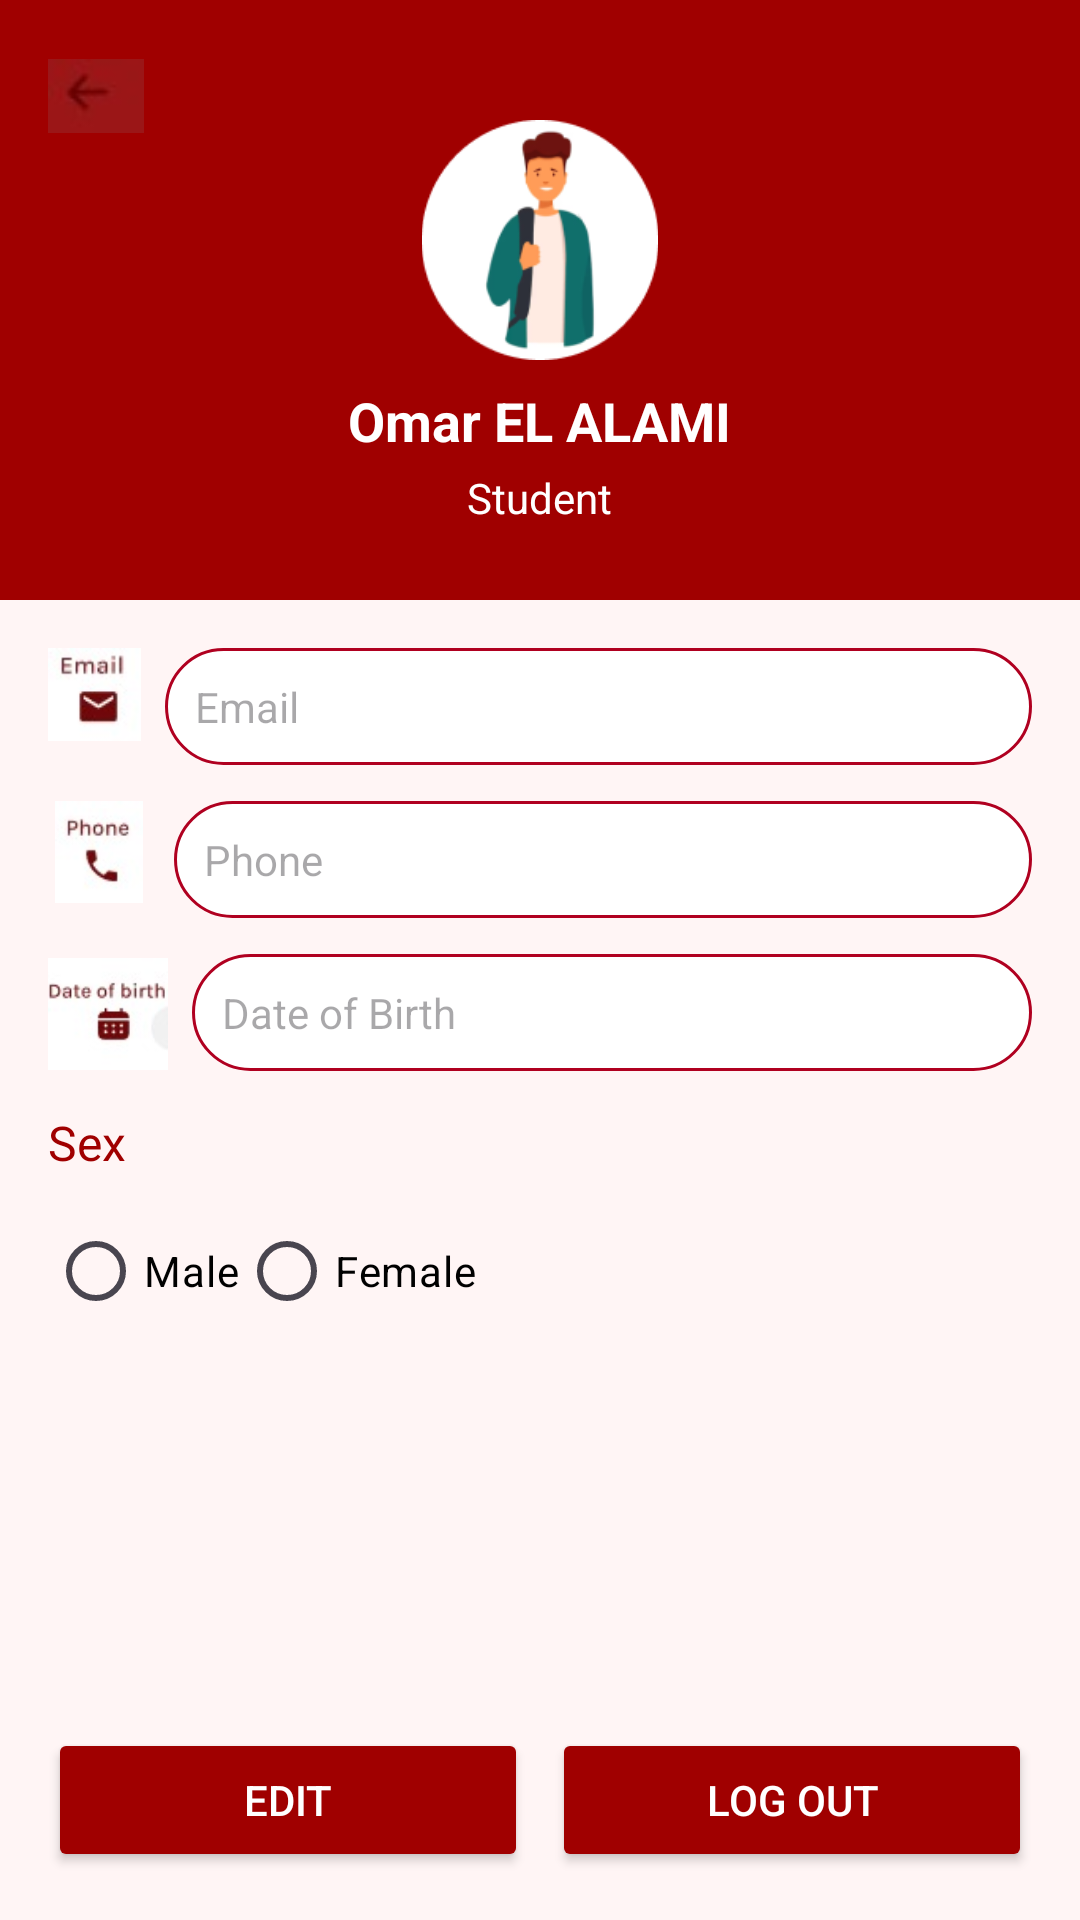

Named icons in this screenshot (1080px×1920px) and their bounding boxes, (x1, y1, x2, y2):
Profile picture: (422, 120, 658, 360)
